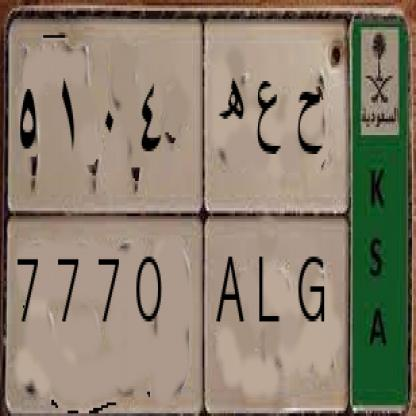english: (0, 214, 358, 409)
